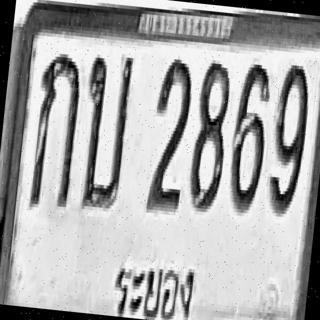A01: (28, 47, 84, 209)
A26: (76, 47, 134, 209)
N02: (146, 53, 195, 211)
N06: (226, 58, 273, 212)
N08: (186, 57, 233, 212)
N09: (266, 59, 312, 213)
P53: (105, 241, 202, 320)
